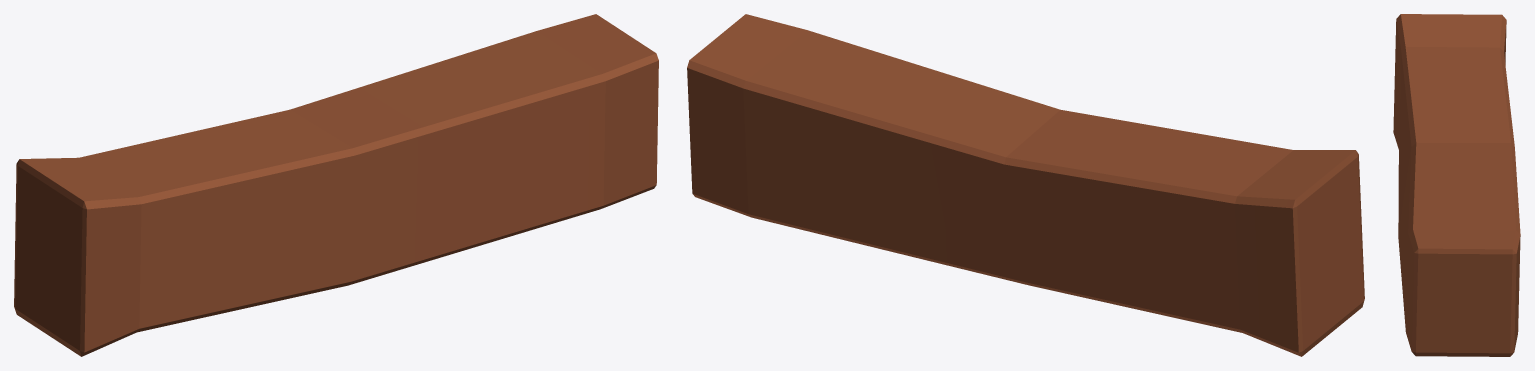
Rendered from Wooden peace for beam.fbx.
3 renders of one model, left to right at view 1: azimuth 30°, elevation 25°; view 2: azimuth 150°, elevation 25°; view 3: azimuth 270°, elevation 25°, orthographic. The views are drawn at different scales.
Parts seen in each view (by area): view 1: Wooden peace for beam; view 2: Wooden peace for beam; view 3: Wooden peace for beam.
Boxes of the visible parts, x1=… form: Wooden peace for beam: x1=14, y1=14, x2=658, y2=356; Wooden peace for beam: x1=687, y1=14, x2=1364, y2=356; Wooden peace for beam: x1=1393, y1=14, x2=1520, y2=356.
Bounding box in the file's own units: 71.31 × 17.87 × 16.16.
